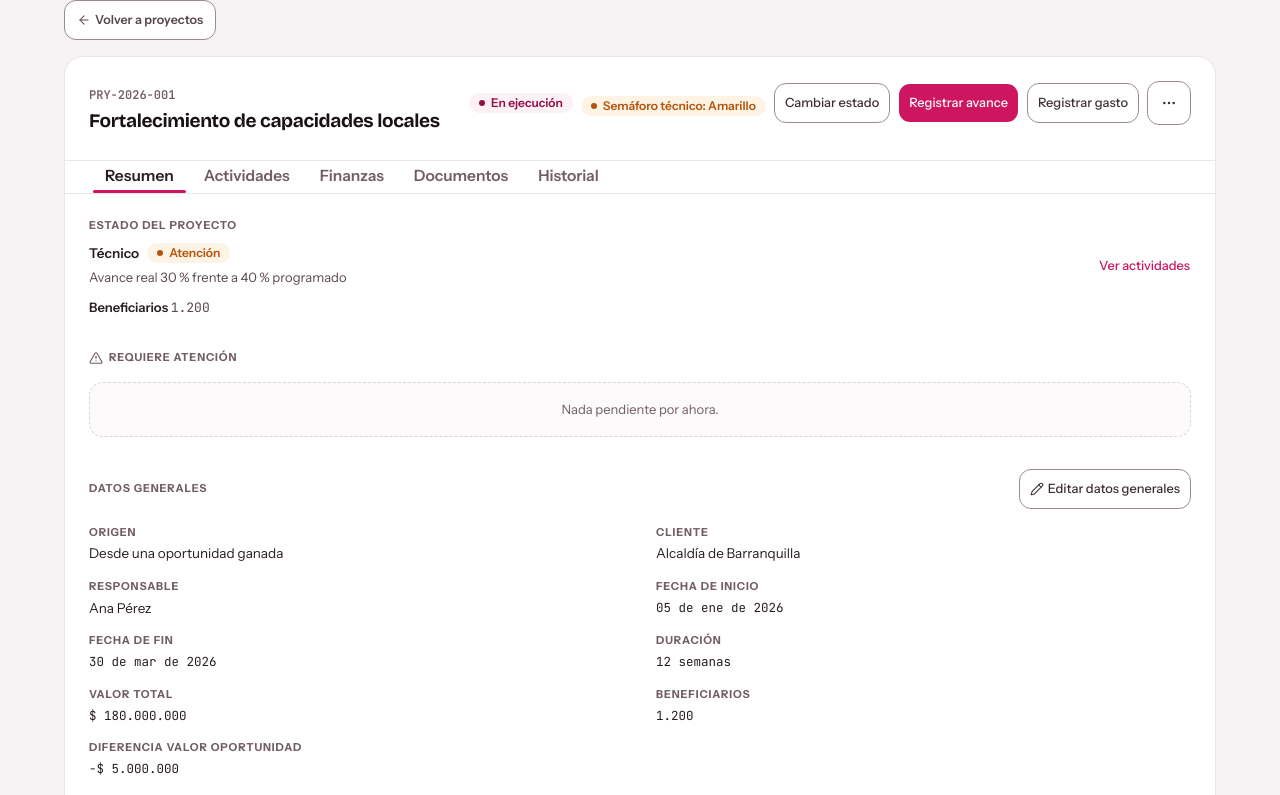
it: ProjectFicha (page) › opens the general-data editor from the Resumen and sends the modification request to Historial (UX-3)
The width and height of the screenshot is (1280, 795).
Click the button "Editar datos generales". click: (1105, 489)
box: [1019,469,1191,509]
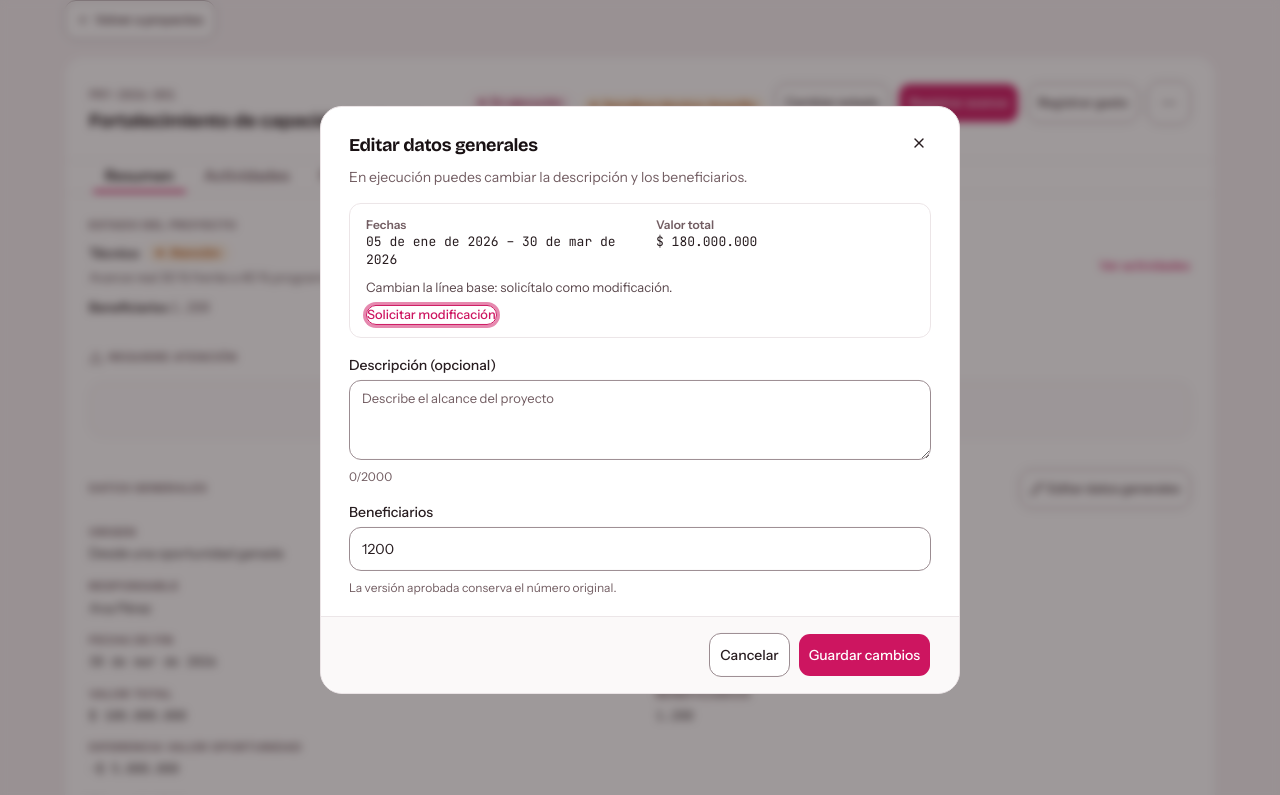
Check: the element with test id "editar-solo-lectura" shows "Cambian la línea base", box [366,279,672,295]
Click the button "Solicitar modificación". click: (431, 315)
box: [366,304,497,325]
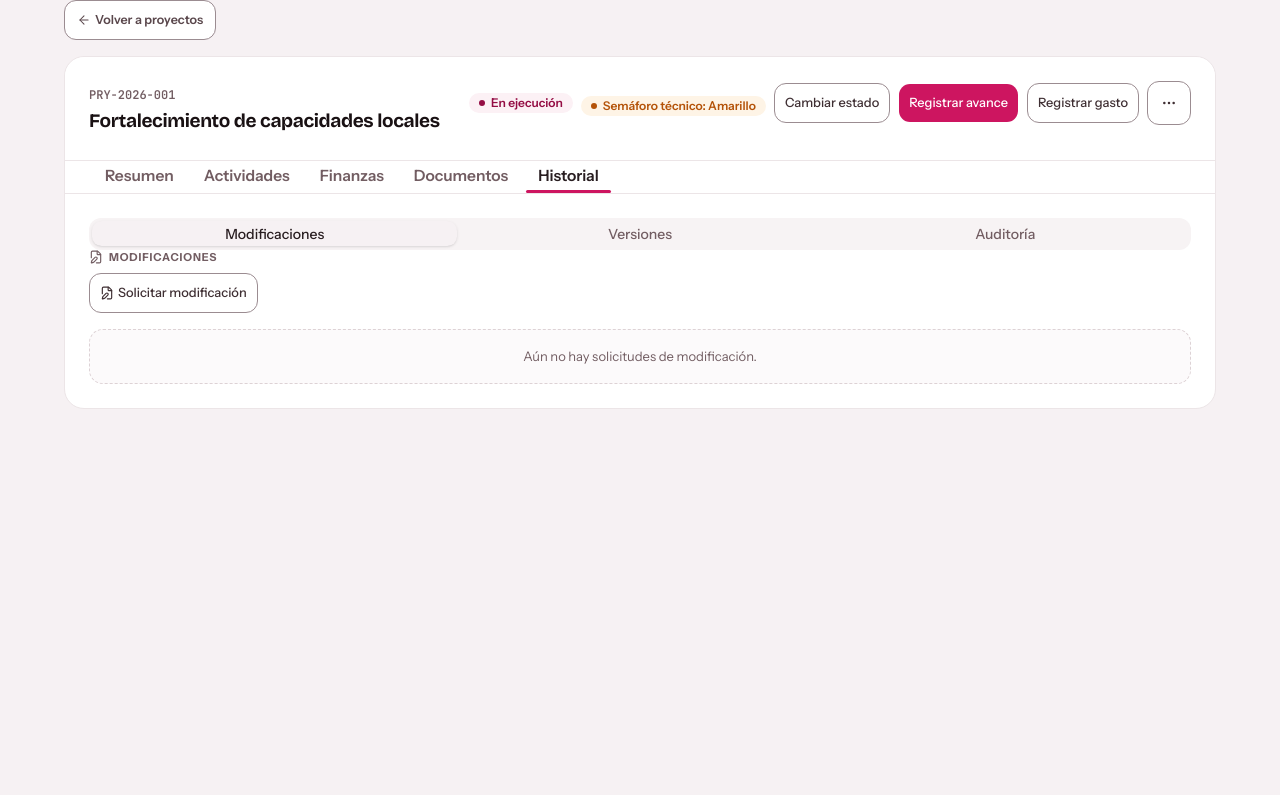
Check: the tab "Historial" is shown, box [525,164,612,189]
Check: the element with test id "modificaciones" is shown, box [89,250,1191,384]
Check: the dialog is gone
